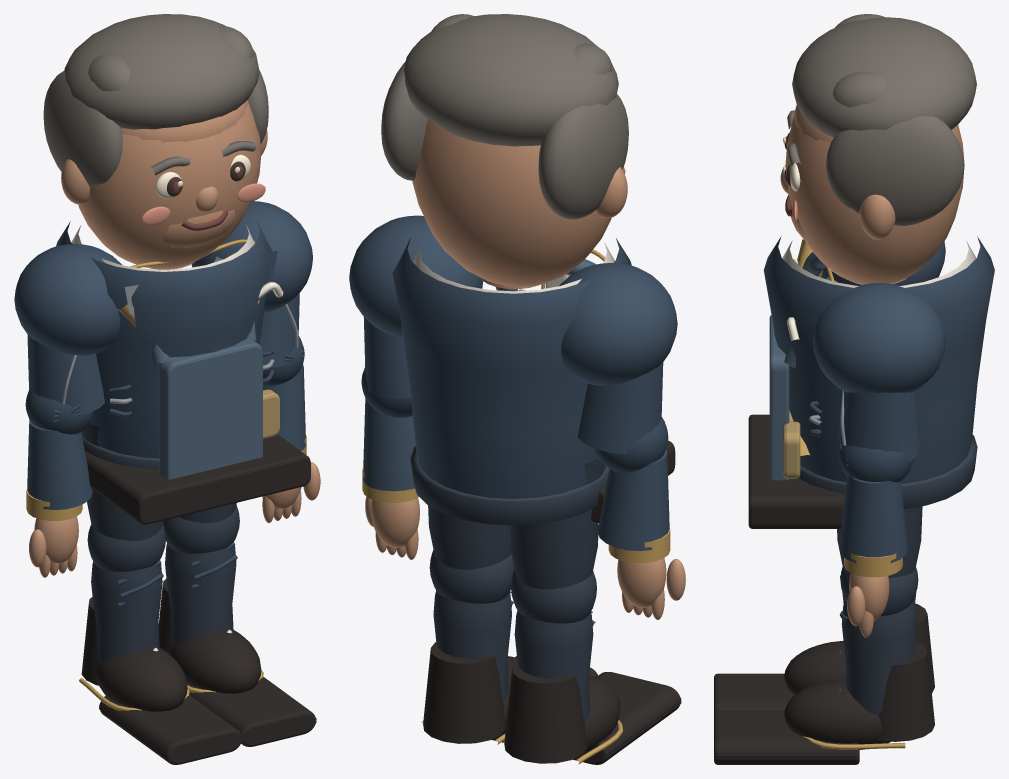
File: mayor-ellis.glb
3 views of the same model, side by side, from view 1: azimuth 30°, elevation 25°; view 2: azimuth 150°, elevation 25°; view 3: azimuth 270°, elevation 25° (orthographic). The views are drawn at different scales.
Visible parts, largest first — view 1: Tailored coat, Hair cap, Face, Apron panel, Tool belt, Shoulder -1, Sole -1, Trousers calf 1, Trousers calf -1, Side hair -1, Shoulder 1, Sole 1 (+26 smaller); view 2: Tailored coat, Hair cap, Face, Shoulder -1, Side hair -1, Shoulder 1, Boot shaft -1, Boot shaft 1, Trousers thigh -1, Trouser waistband, Sleeve forearm -1, Sleeve upper -1 (+20 smaller); view 3: Tailored coat, Hair cap, Shoulder 1, Side hair 1, Face, Tool belt, Sole 1, Trousers calf 1, Sleeve forearm 1, Leather toe 1, Sleeve upper 1, Boot shaft 1 (+18 smaller).
Part boxes in pixels (bbox=[...]): Tailored coat: bbox=[56, 221, 272, 458]; Hair cap: bbox=[64, 14, 259, 129]; Face: bbox=[78, 103, 261, 268]; Apron panel: bbox=[159, 338, 262, 479]; Tool belt: bbox=[85, 434, 310, 524]; Shoulder -1: bbox=[14, 244, 121, 355]; Sole -1: bbox=[99, 695, 242, 764]; Trousers calf 1: bbox=[165, 543, 236, 644]; Trousers calf -1: bbox=[91, 561, 162, 662]; Side hair -1: bbox=[43, 71, 122, 186]; Shoulder 1: bbox=[191, 201, 312, 312]; Sole 1: bbox=[186, 677, 316, 746]; Tailored coat: bbox=[392, 238, 631, 498]; Hair cap: bbox=[404, 14, 618, 146]; Face: bbox=[412, 119, 611, 286]; Shoulder -1: bbox=[559, 263, 677, 385]; Side hair -1: bbox=[538, 94, 628, 219]; Shoulder 1: bbox=[349, 215, 483, 337]; Boot shaft -1: bbox=[504, 662, 586, 763]; Boot shaft 1: bbox=[423, 642, 505, 743]; Trousers thigh -1: bbox=[509, 458, 604, 589]; Trouser waistband: bbox=[410, 446, 609, 525]; Sleeve forearm -1: bbox=[597, 449, 669, 550]; Sleeve upper -1: bbox=[578, 362, 663, 454]; Tailored coat: bbox=[763, 236, 994, 483]; Hair cap: bbox=[792, 17, 976, 137]; Shoulder 1: bbox=[813, 283, 945, 393]; Side hair 1: bbox=[826, 116, 964, 225]; Face: bbox=[785, 113, 964, 284]; Tool belt: bbox=[748, 414, 844, 528]; Sole 1: bbox=[714, 711, 859, 764]; Trousers calf 1: bbox=[841, 600, 916, 715]; Sleeve forearm 1: bbox=[839, 476, 908, 563]; Leather toe 1: bbox=[784, 678, 890, 749]; Sleeve upper 1: bbox=[837, 390, 921, 461]; Boot shaft 1: bbox=[877, 641, 934, 741].
Bounding box in the file's own units: 1.26 × 2.77 × 1.01.
